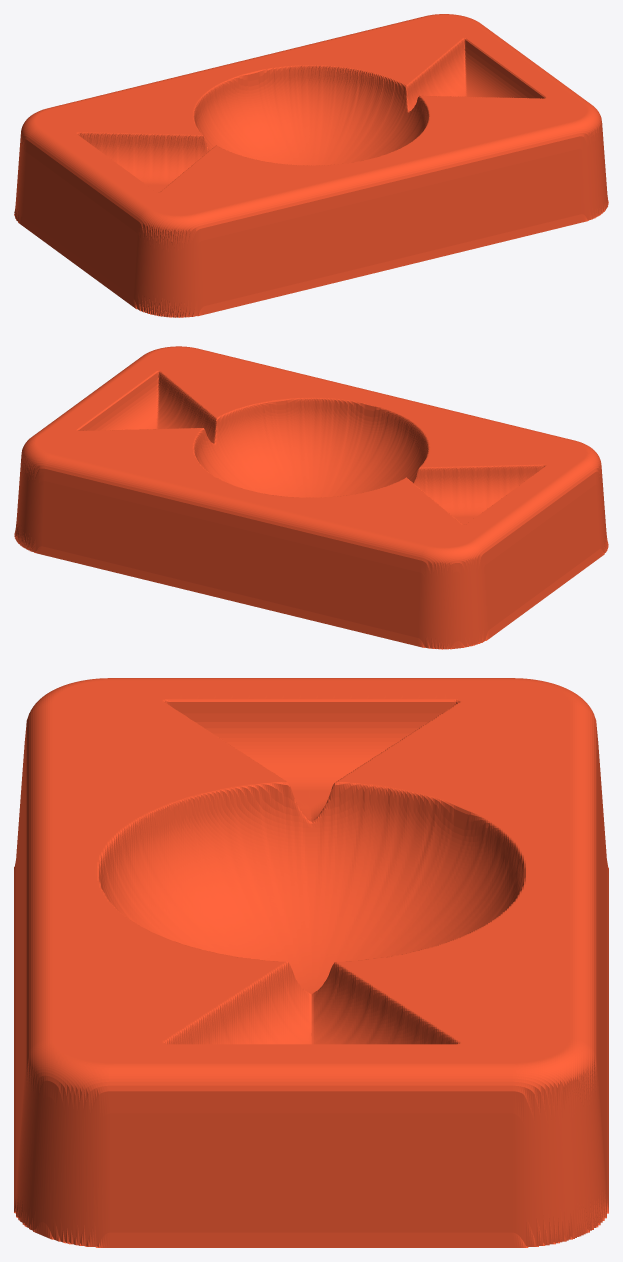
Rendered from mold.glb.
3 views of the same model, one above another, from view 1: azimuth 30°, elevation 25°; view 2: azimuth 150°, elevation 25°; view 3: azimuth 270°, elevation 25° (orthographic). The views are drawn at different scales.
Visible parts, largest first — view 1: geometry_0; view 2: geometry_0; view 3: geometry_0.
Part boxes in pixels (box(x1,y1,x2,y2)): geometry_0: box(14, 14, 608, 317); geometry_0: box(14, 346, 608, 649); geometry_0: box(14, 678, 608, 1247).
Size of the model in its own units: 0.0924 by 0.0175 by 0.056.
